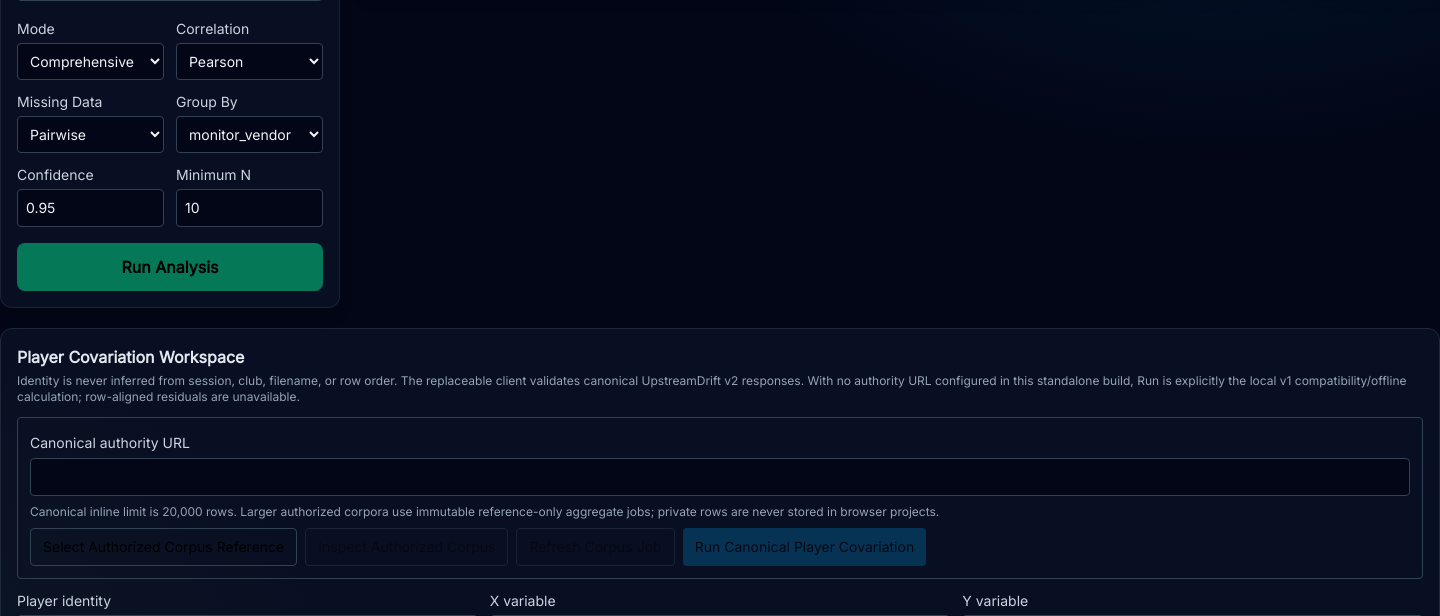
Test case: LaunchMonitorAnalyticsPanel › runs the demonstration analysis and displays lineage
(page scrolled)
Click the button "Run Analysis" at (170, 267), box [17,243,323,291]
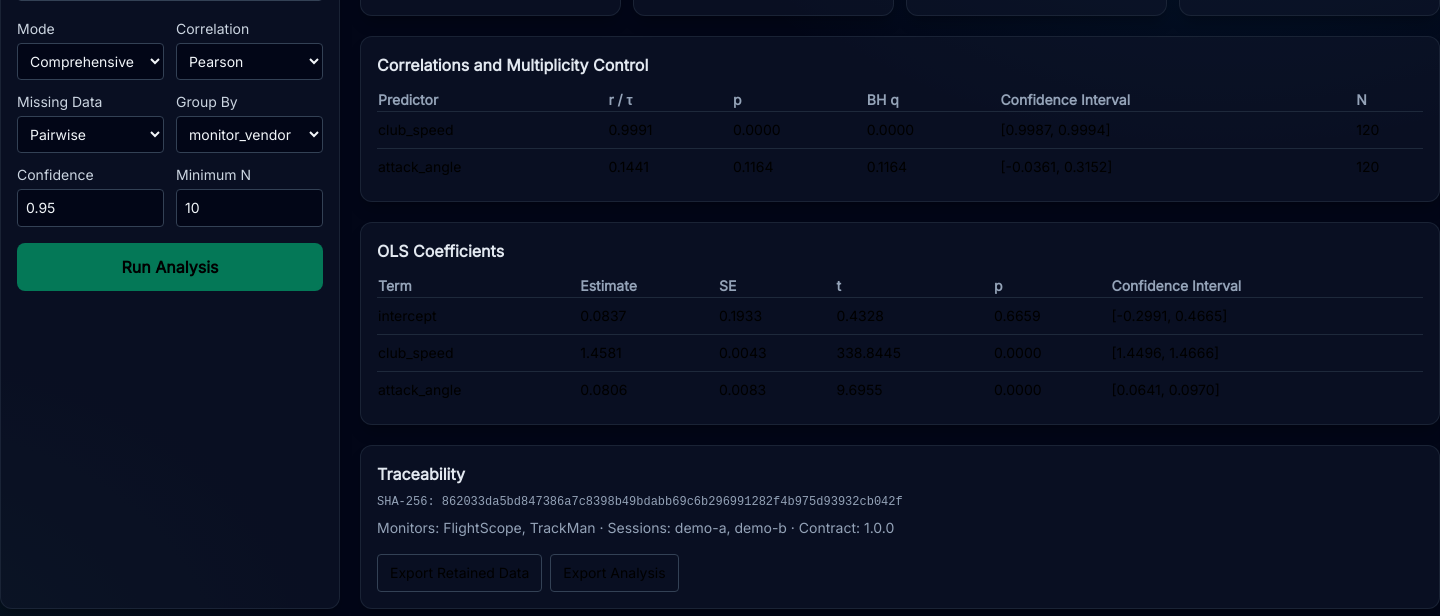
Expected: the heading "Correlations and Multiplicity Control" is shown, [377,55,648,75]
Expected: the heading "OLS Coefficients" is shown, [377,241,504,261]
